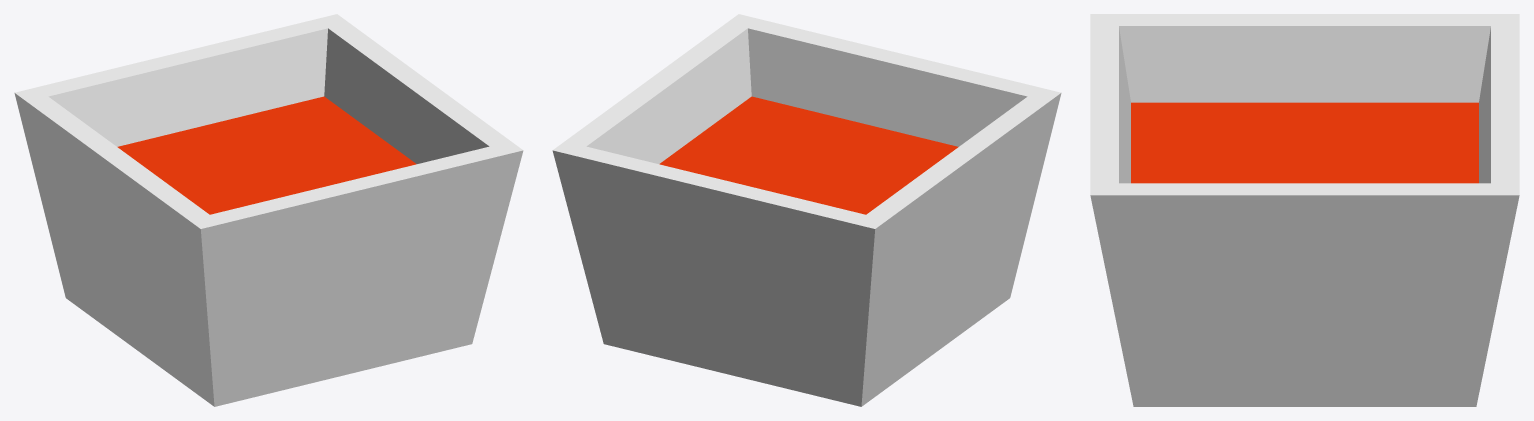
File: CarrotSoup.fbx
The picture shows the model from 3 angles, left to right: view 1: azimuth 30°, elevation 25°; view 2: azimuth 150°, elevation 25°; view 3: azimuth 270°, elevation 25°; orthographic projection. The views are drawn at different scales.
Visible parts, largest first — view 1: Cube; view 2: Cube; view 3: Cube.
Part boxes in pixels (x1,y1,x2,y2): Cube: (14,14,523,406); Cube: (552,14,1061,406); Cube: (1090,14,1519,406).
Bounding box in the file's own units: 0.3078 × 0.1819 × 0.3078.
